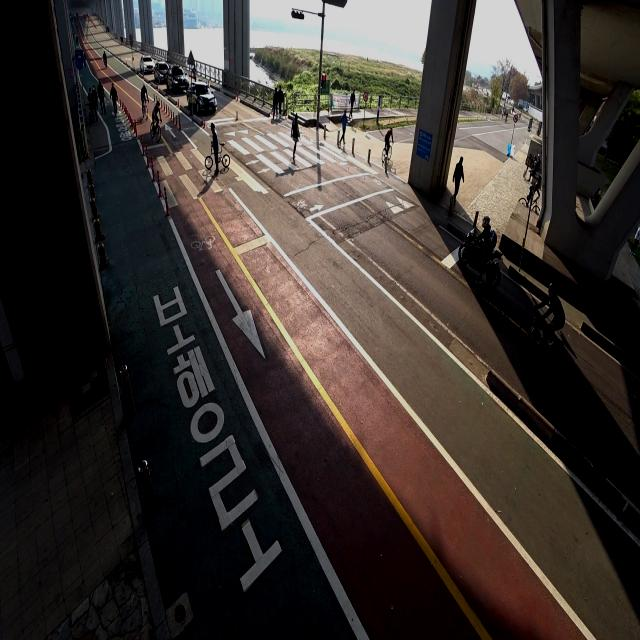Car: (184, 77, 216, 118), (166, 63, 188, 95), (154, 56, 174, 84), (139, 50, 154, 75)
Motorcycle: (457, 212, 503, 288)
